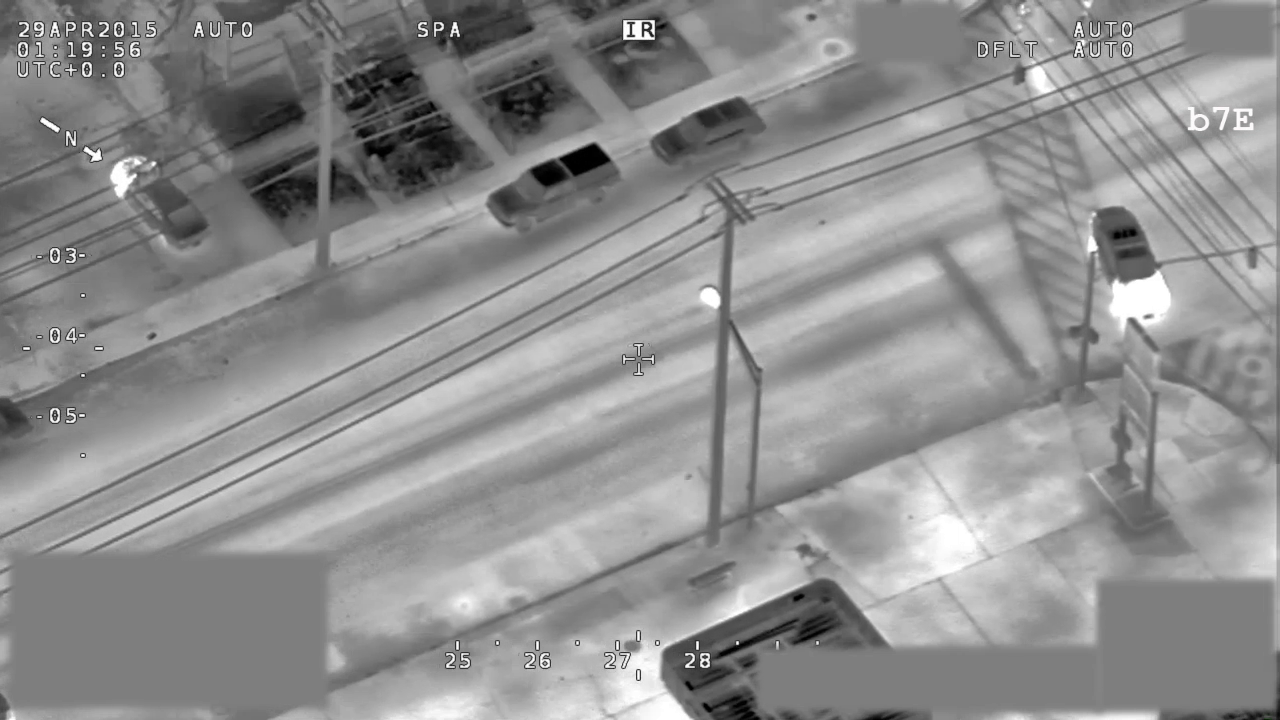vehicle: (483, 137, 625, 236), (1078, 204, 1178, 327), (108, 152, 215, 254), (646, 95, 769, 170)
